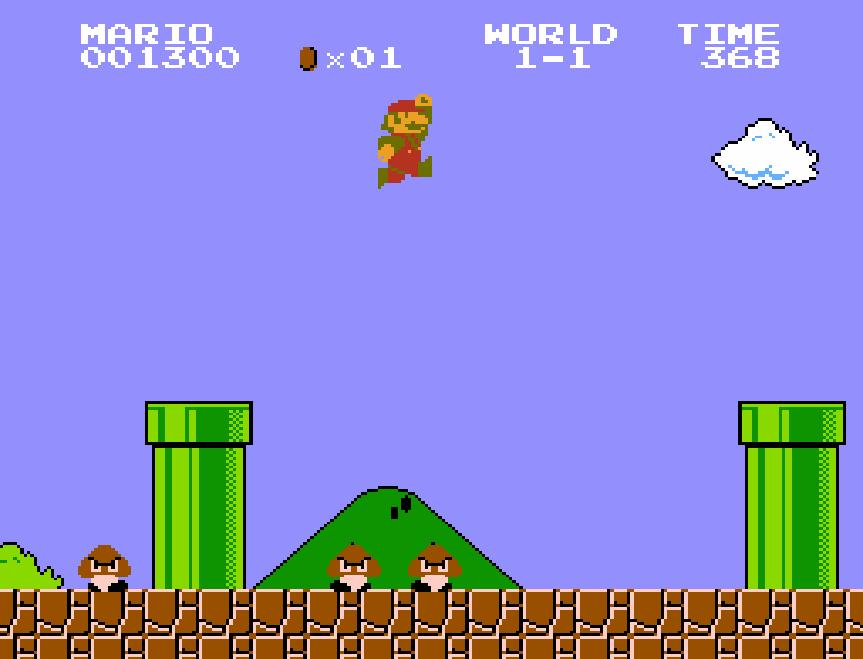big_mario: (376, 92, 434, 190)
